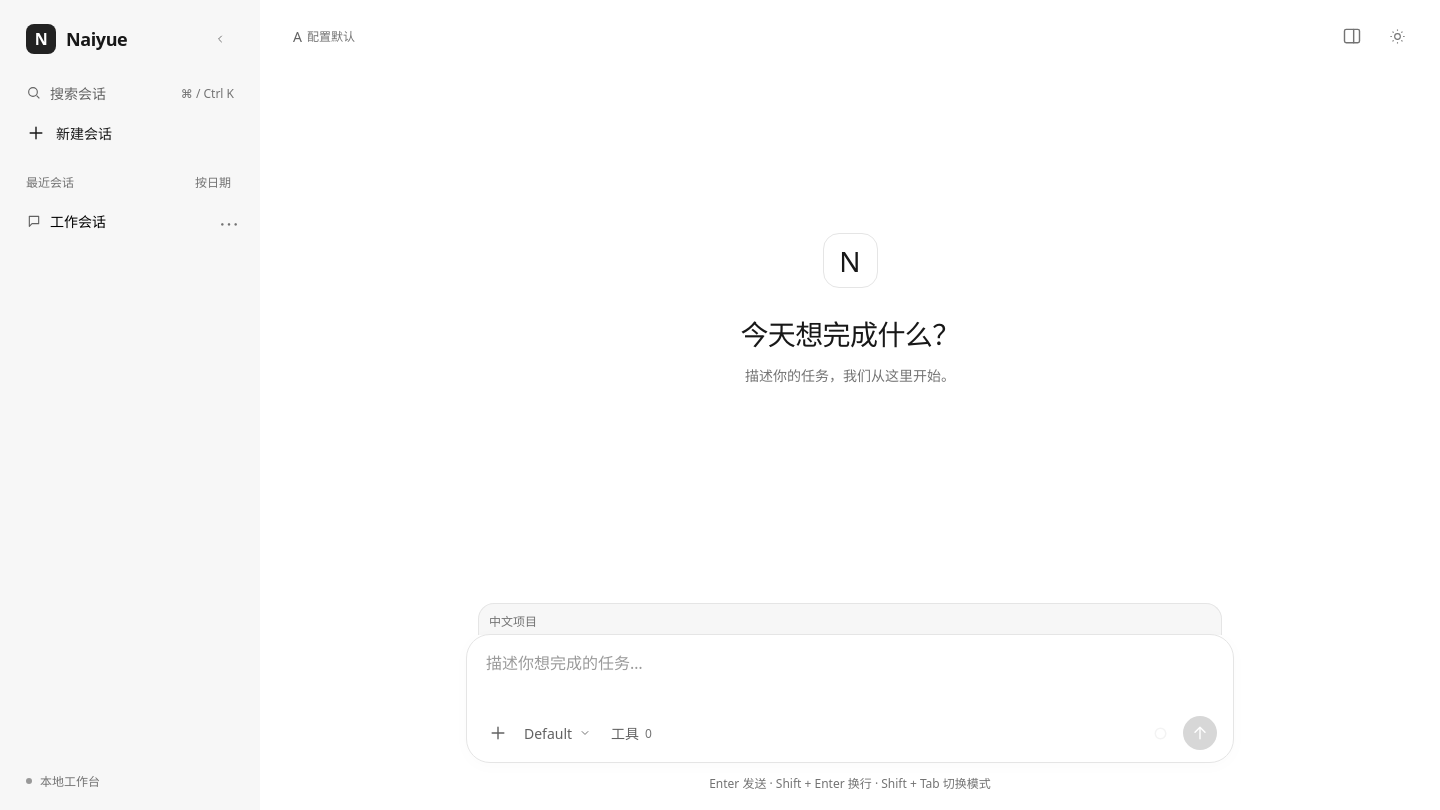
Test case: displays the selected session path / instead of service identity
This screenshot has width=1440, height=810.
Expected: the text "中文项目" is shown, [489,612,537,630]
What coordinates should you click on to do the following:
click the button with aria-label "工作会话 A"
I would click on:
 (130, 221)
Its box is [14,202,246,240].
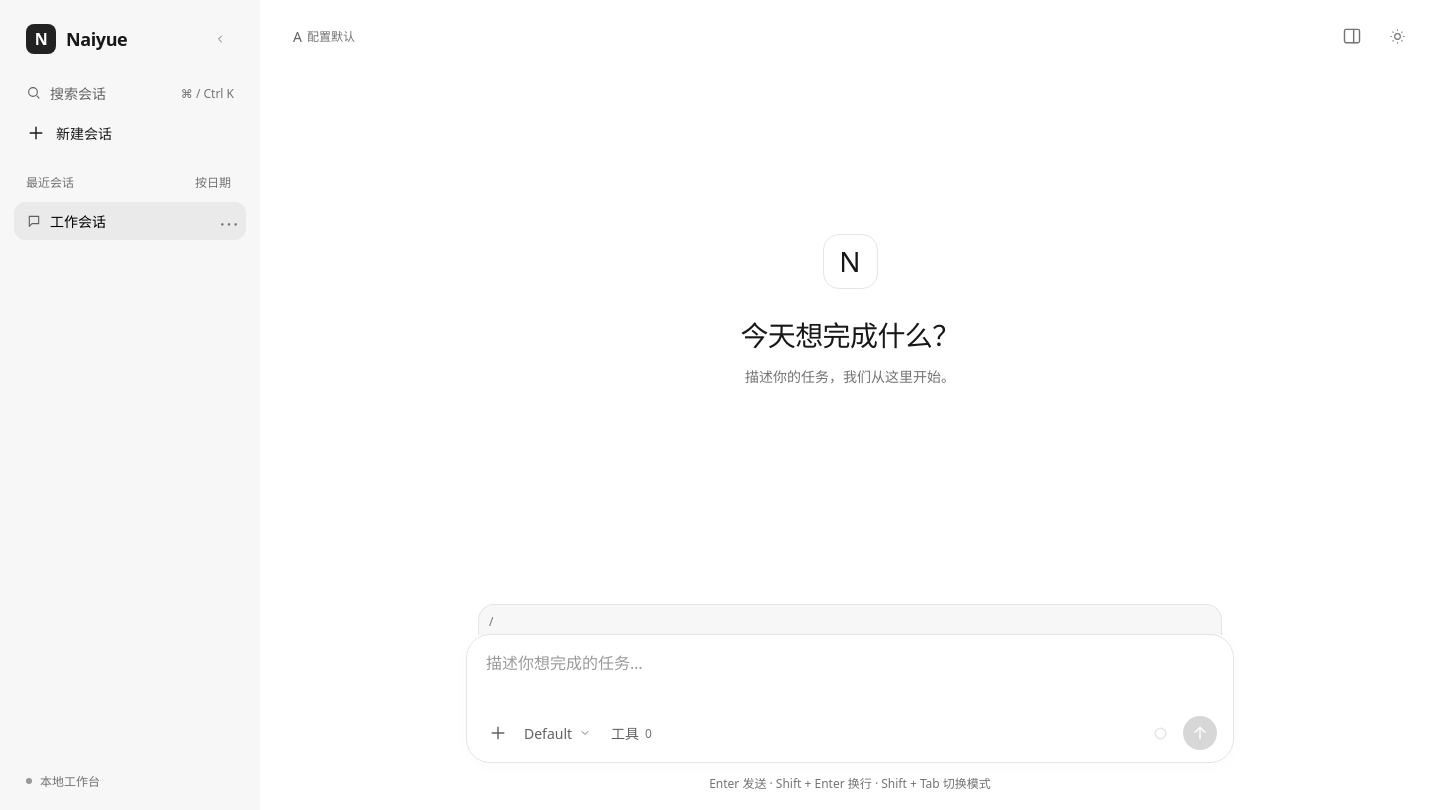
Now the text titled "/" is shown, box [489,613,494,630]
Now the text "中文项目" is gone
